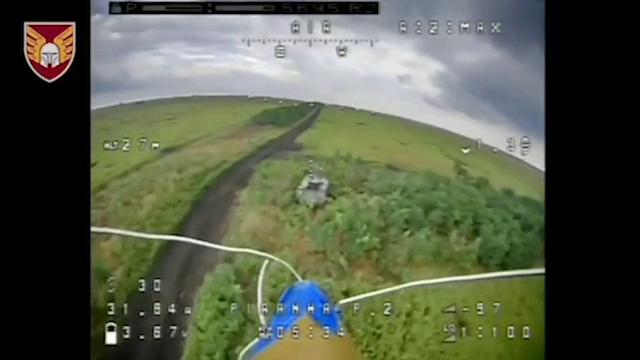tank: (293, 161, 334, 213)
